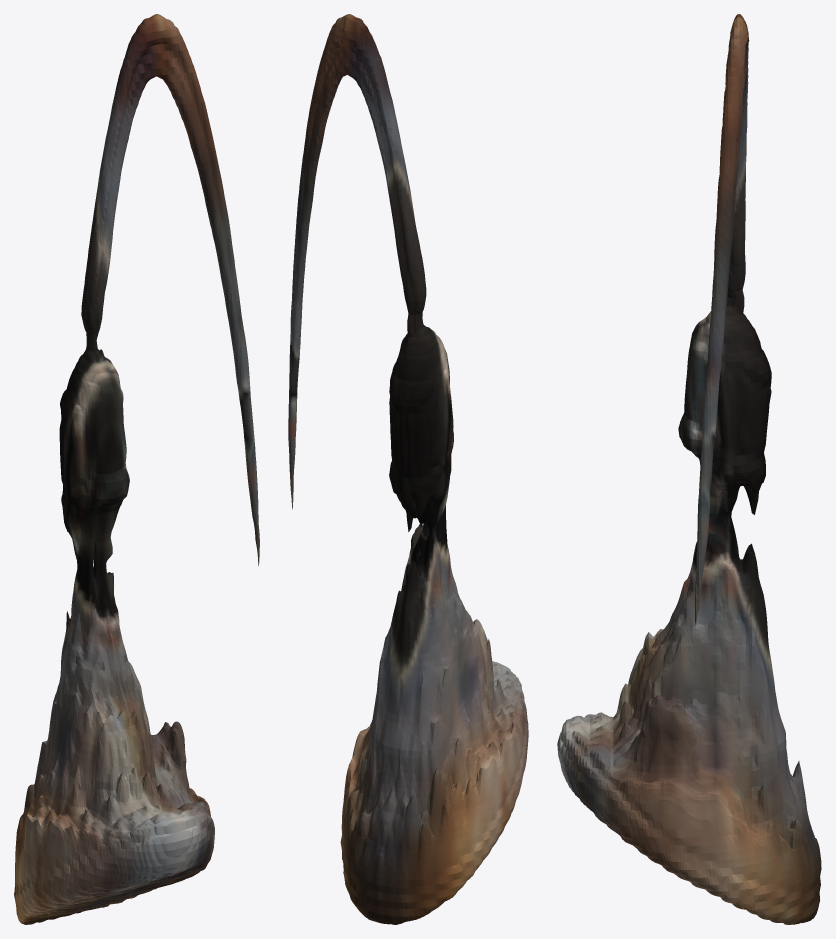
The model's file is lamp-002.glb.
The picture shows the model from 3 angles, left to right: view 1: azimuth 30°, elevation 25°; view 2: azimuth 150°, elevation 25°; view 3: azimuth 270°, elevation 25°; orthographic projection. The views are drawn at different scales.
Parts seen in each view (by area): view 1: geometry_0; view 2: geometry_0; view 3: geometry_0.
Part boxes in pixels (x1,y1,x2,y2): geometry_0: (14,14,259,924); geometry_0: (288,14,528,924); geometry_0: (557,14,821,924).
Bounding box in the file's own units: 45 × 175 × 45.
